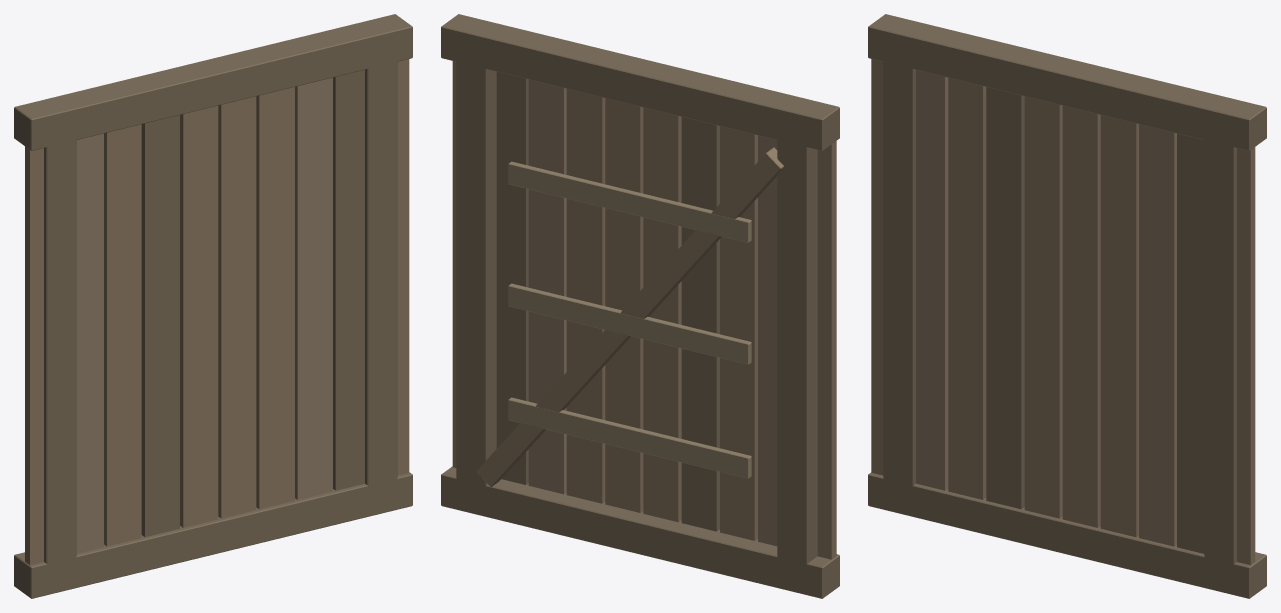
File: env_wall_plank_repaired_c_v03_three_battens.glb
3 renders of one model, left to right at view 1: azimuth 30°, elevation 25°; view 2: azimuth 150°, elevation 25°; view 3: azimuth 330°, elevation 25°, orthographic.
Parts seen in each view (by area): view 1: material_2, material_0, material_1; view 2: material_2, material_0, material_1, material_3; view 3: material_2, material_0, material_1.
Boxes of the visible parts, left/top/right/bottom form: material_2: left=14, top=14, right=412, bottom=598; material_0: left=25, top=59, right=409, bottom=565; material_1: left=76, top=77, right=332, bottom=553; material_2: left=441, top=14, right=839, bottom=598; material_0: left=452, top=61, right=836, bottom=559; material_1: left=528, top=79, right=777, bottom=546; material_3: left=508, top=161, right=751, bottom=478; material_2: left=868, top=14, right=1266, bottom=598; material_0: left=871, top=59, right=1255, bottom=565; material_1: left=916, top=70, right=1176, bottom=546.
Size of the model in its own units: 2 by 2.4 by 0.19.
